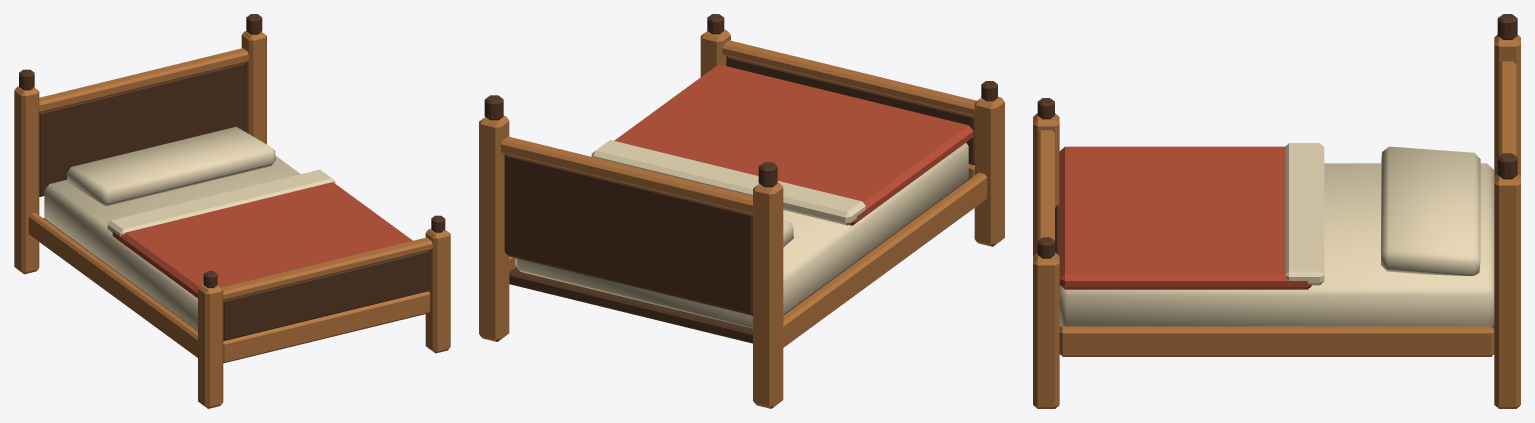
The model's file is prop_bed_cozy_a.glb.
The picture shows the model from 3 angles, left to right: view 1: azimuth 30°, elevation 25°; view 2: azimuth 150°, elevation 25°; view 3: azimuth 270°, elevation 25°; orthographic projection. The views are drawn at different scales.
Parts seen in each view (by area): view 1: bed_footboard_top_trim, bed_base_board, bed_mattress, bed_quilt_main; view 2: bed_footboard_top_trim, bed_base_board, bed_quilt_main, bed_mattress; view 3: bed_mattress, bed_quilt_main, bed_footboard_top_trim, bed_base_board.
Boxes of the visible parts, x1,y1,x2,y2 form: bed_footboard_top_trim: [14, 31, 450, 408]; bed_base_board: [19, 14, 445, 340]; bed_mattress: [44, 126, 335, 330]; bed_quilt_main: [112, 182, 412, 298]; bed_footboard_top_trim: [479, 30, 1004, 408]; bed_base_board: [484, 14, 997, 343]; bed_quilt_main: [614, 64, 973, 225]; bed_mattress: [515, 140, 968, 328]; bed_mattress: [1059, 143, 1494, 327]; bed_quilt_main: [1059, 146, 1311, 289]; bed_footboard_top_trim: [1033, 35, 1520, 408]; bed_base_board: [1037, 14, 1517, 328].
Bounding box in the file's own units: 1.62 × 1.25 × 2.22.
